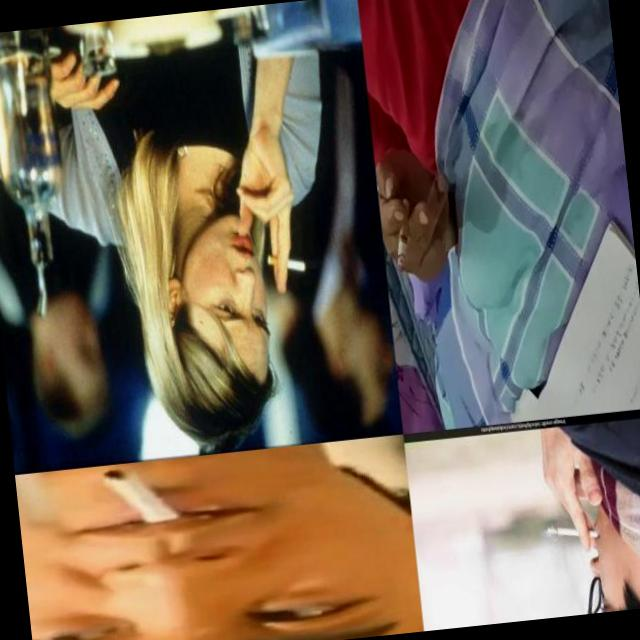cigarette: (221, 133, 306, 280), (376, 156, 464, 288), (520, 426, 600, 547), (101, 462, 186, 534)
